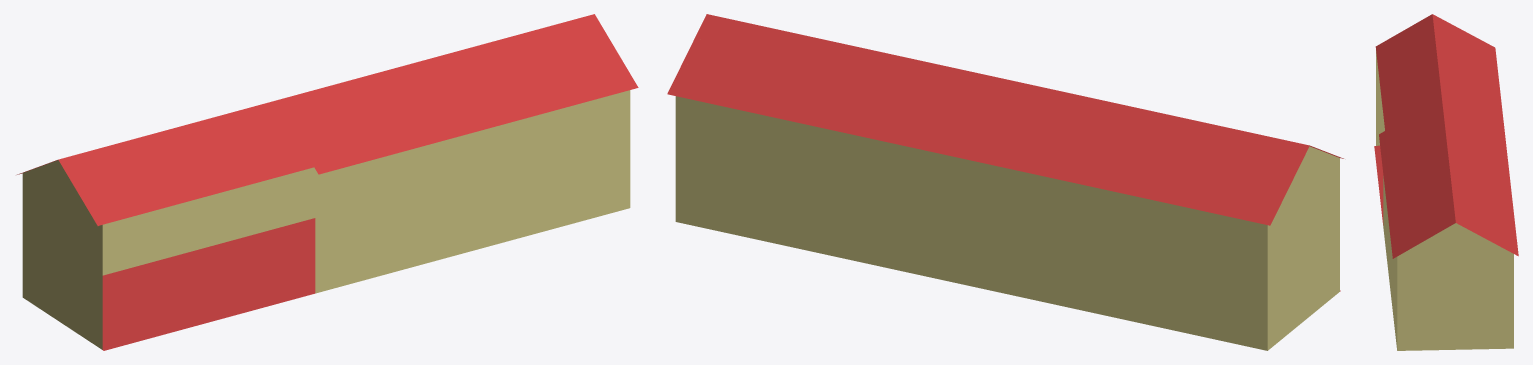
3 renders of one model, left to right at view 1: azimuth 30°, elevation 25°; view 2: azimuth 150°, elevation 25°; view 3: azimuth 270°, elevation 25°, orthographic. The views are drawn at different scales.
Bounding box in the file's own units: 27.32 × 7.89 × 7.76.
